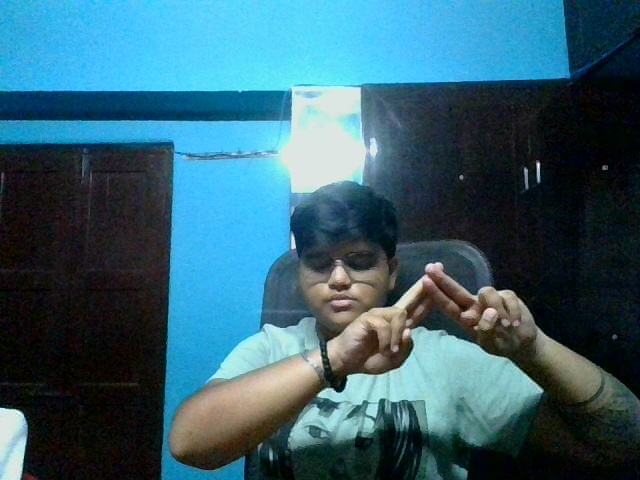F: (350, 255, 538, 384)
